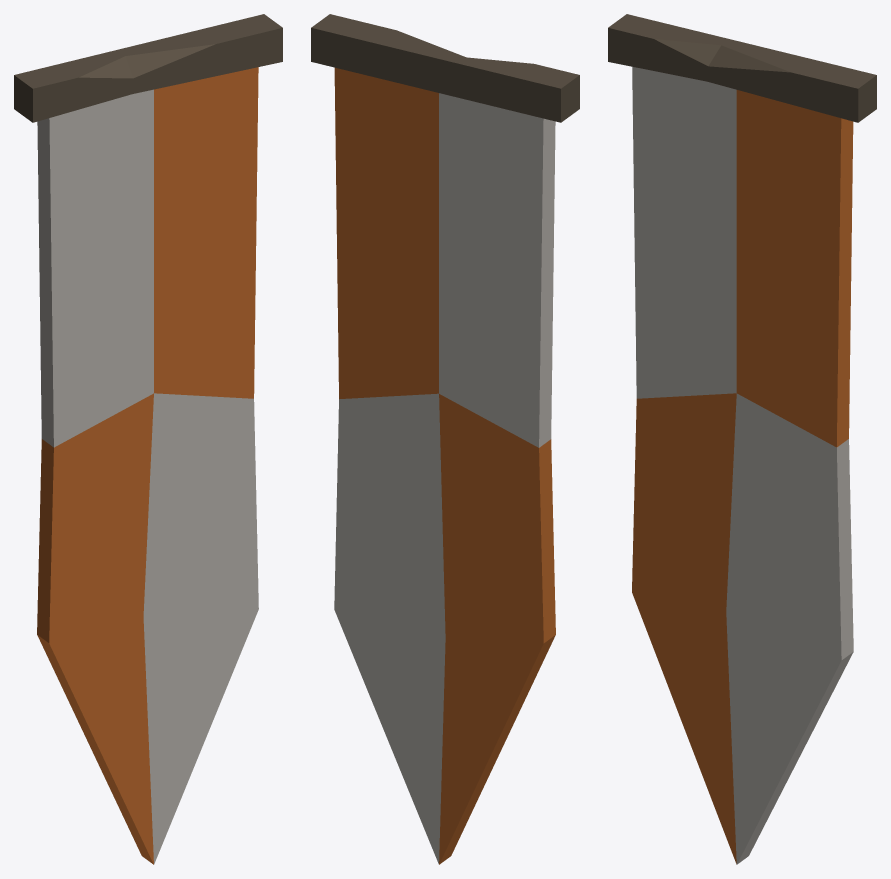
The model's file is prop_banner.gltf.
The picture shows the model from 3 angles, left to right: view 1: azimuth 30°, elevation 25°; view 2: azimuth 150°, elevation 25°; view 3: azimuth 330°, elevation 25°; orthographic projection.
Parts seen in each view (by area): view 1: prop_banner; view 2: prop_banner; view 3: prop_banner.
Part boxes in pixels (box(x1,y1,x2,y2)): prop_banner: box(14, 14, 282, 864); prop_banner: box(311, 14, 579, 864); prop_banner: box(608, 14, 876, 864).
Size of the model in its own units: 0.7108 by 2.2 by 0.0926.
Materials: 1 (1 with a texture image).
